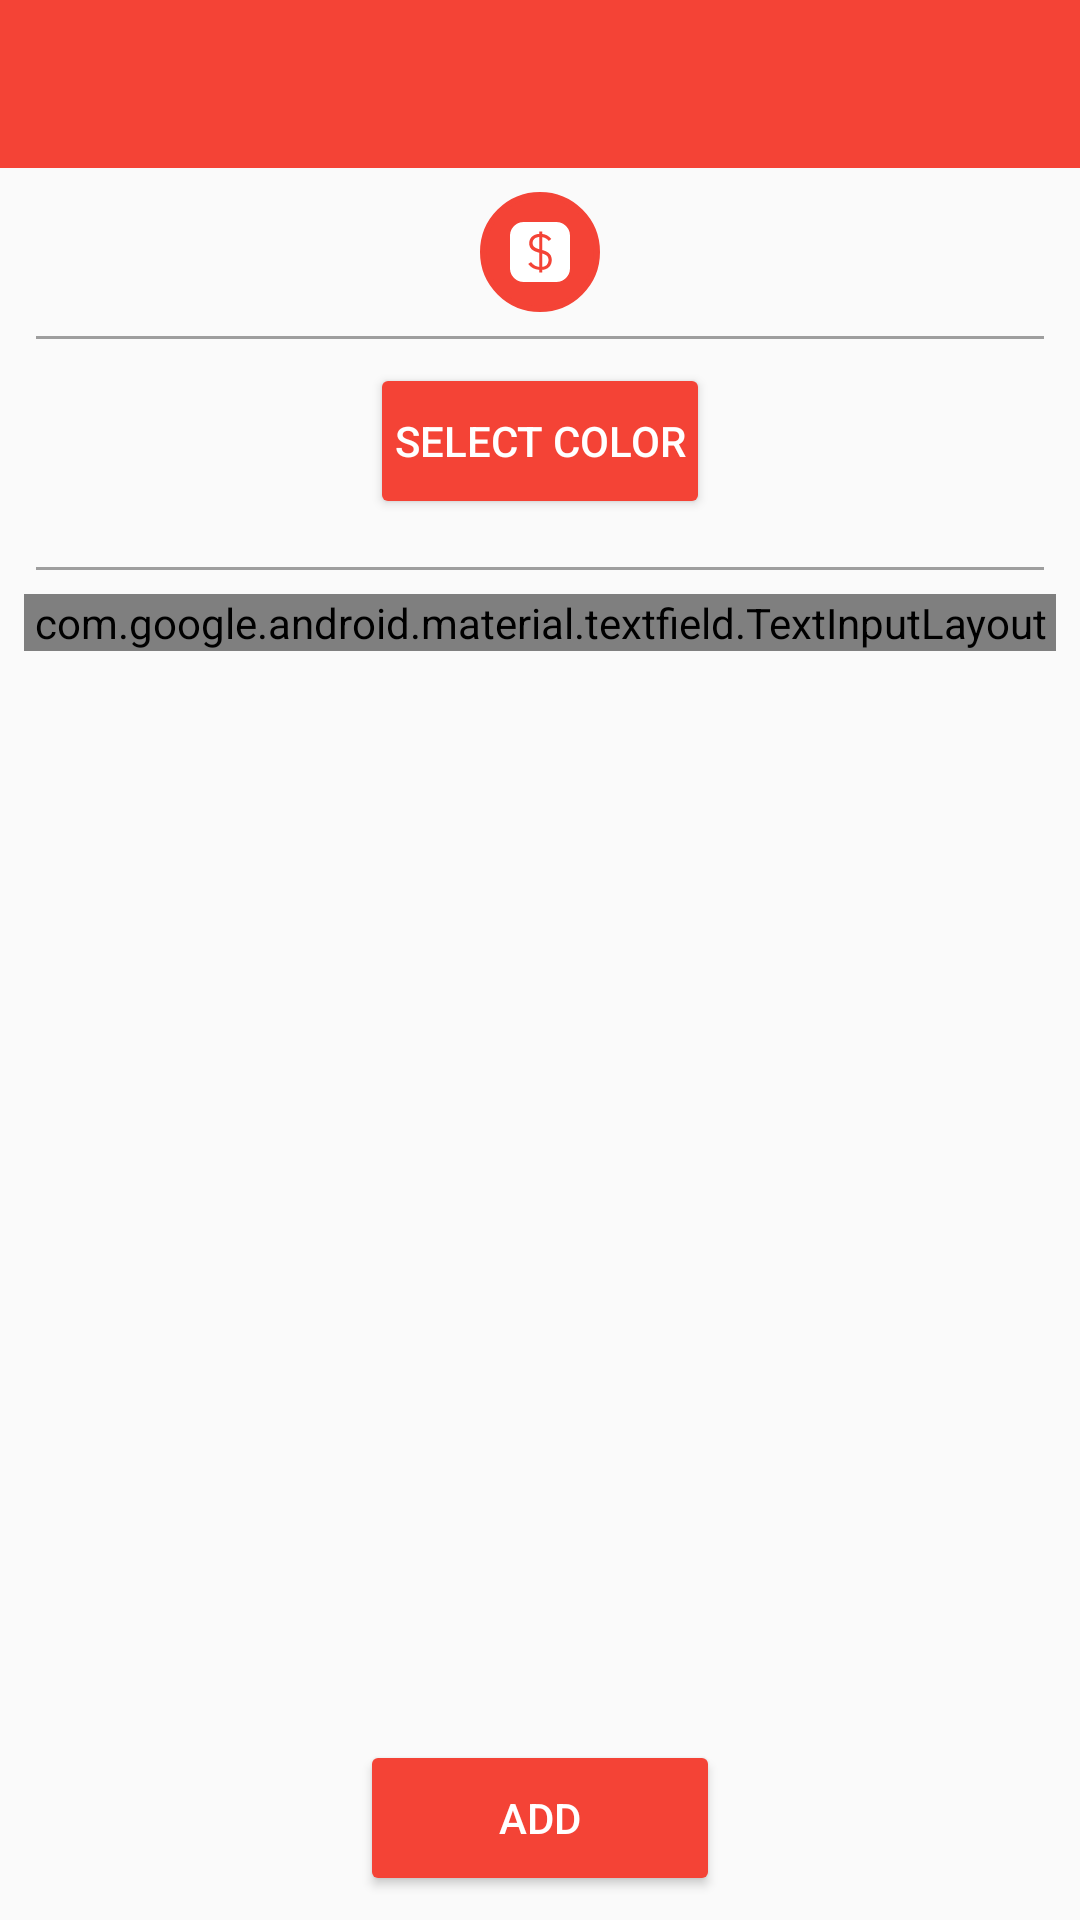

Icons on this 1080x1920 Android screen, each with its box as [x1, y1, x2, y2]:
category: [480, 192, 600, 312]
